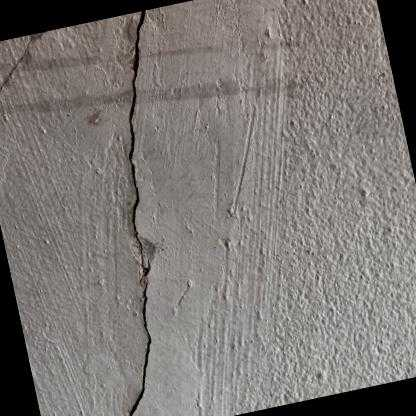crack: (126, 9, 151, 416)
